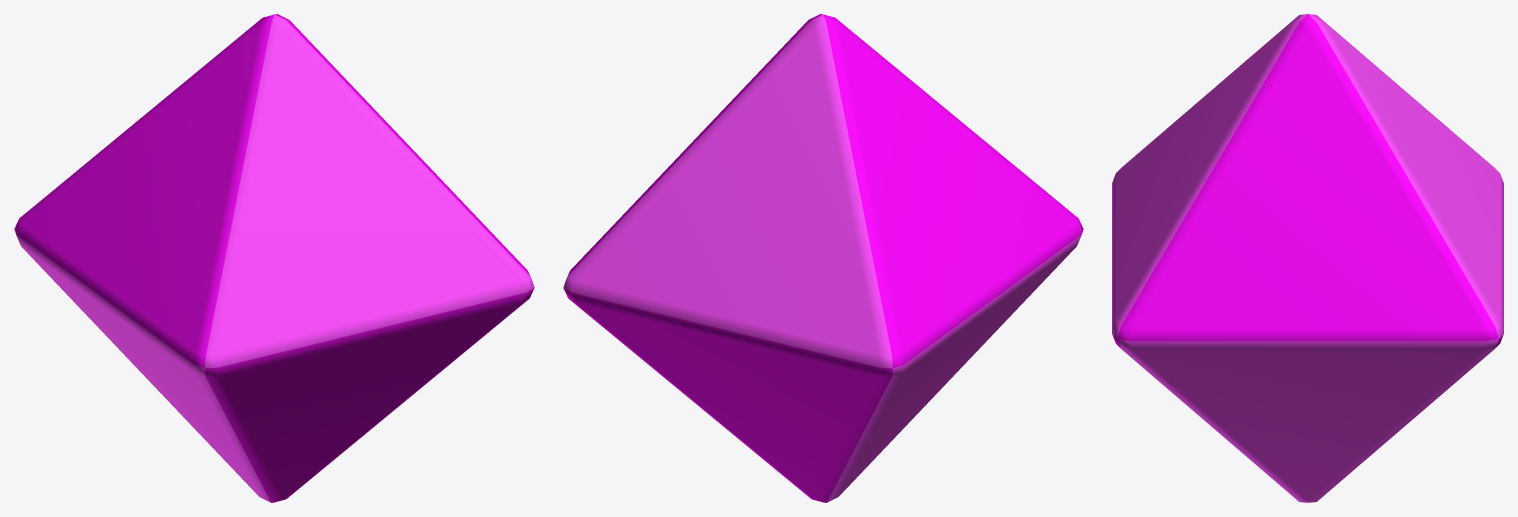
The model's file is Gem.fbx.
3 views of the same model, side by side, from view 1: azimuth 30°, elevation 25°; view 2: azimuth 150°, elevation 25°; view 3: azimuth 270°, elevation 25° (orthographic).
Parts seen in each view (by area): view 1: Gem; view 2: Gem; view 3: Gem.
Part boxes in pixels (x1=…): Gem: x1=14, y1=14, x2=534, y2=502; Gem: x1=563, y1=14, x2=1083, y2=502; Gem: x1=1112, y1=14, x2=1503, y2=502.
Size of the model in its own units: 28.39 by 39.11 by 28.39.
